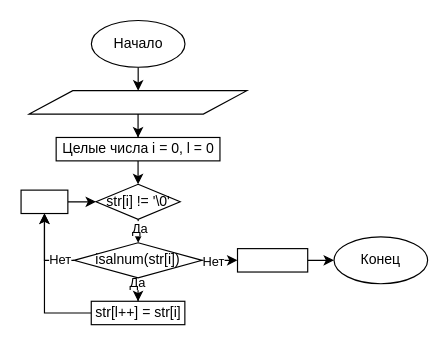
Some shapes in this 448 by 345 pixel diagram are drawn without their labels. Each missing label, with the centre of its shape:
i++: [44,201]
str[l] = '\0': [272,259]
Передача строки str[]: [137,102]
